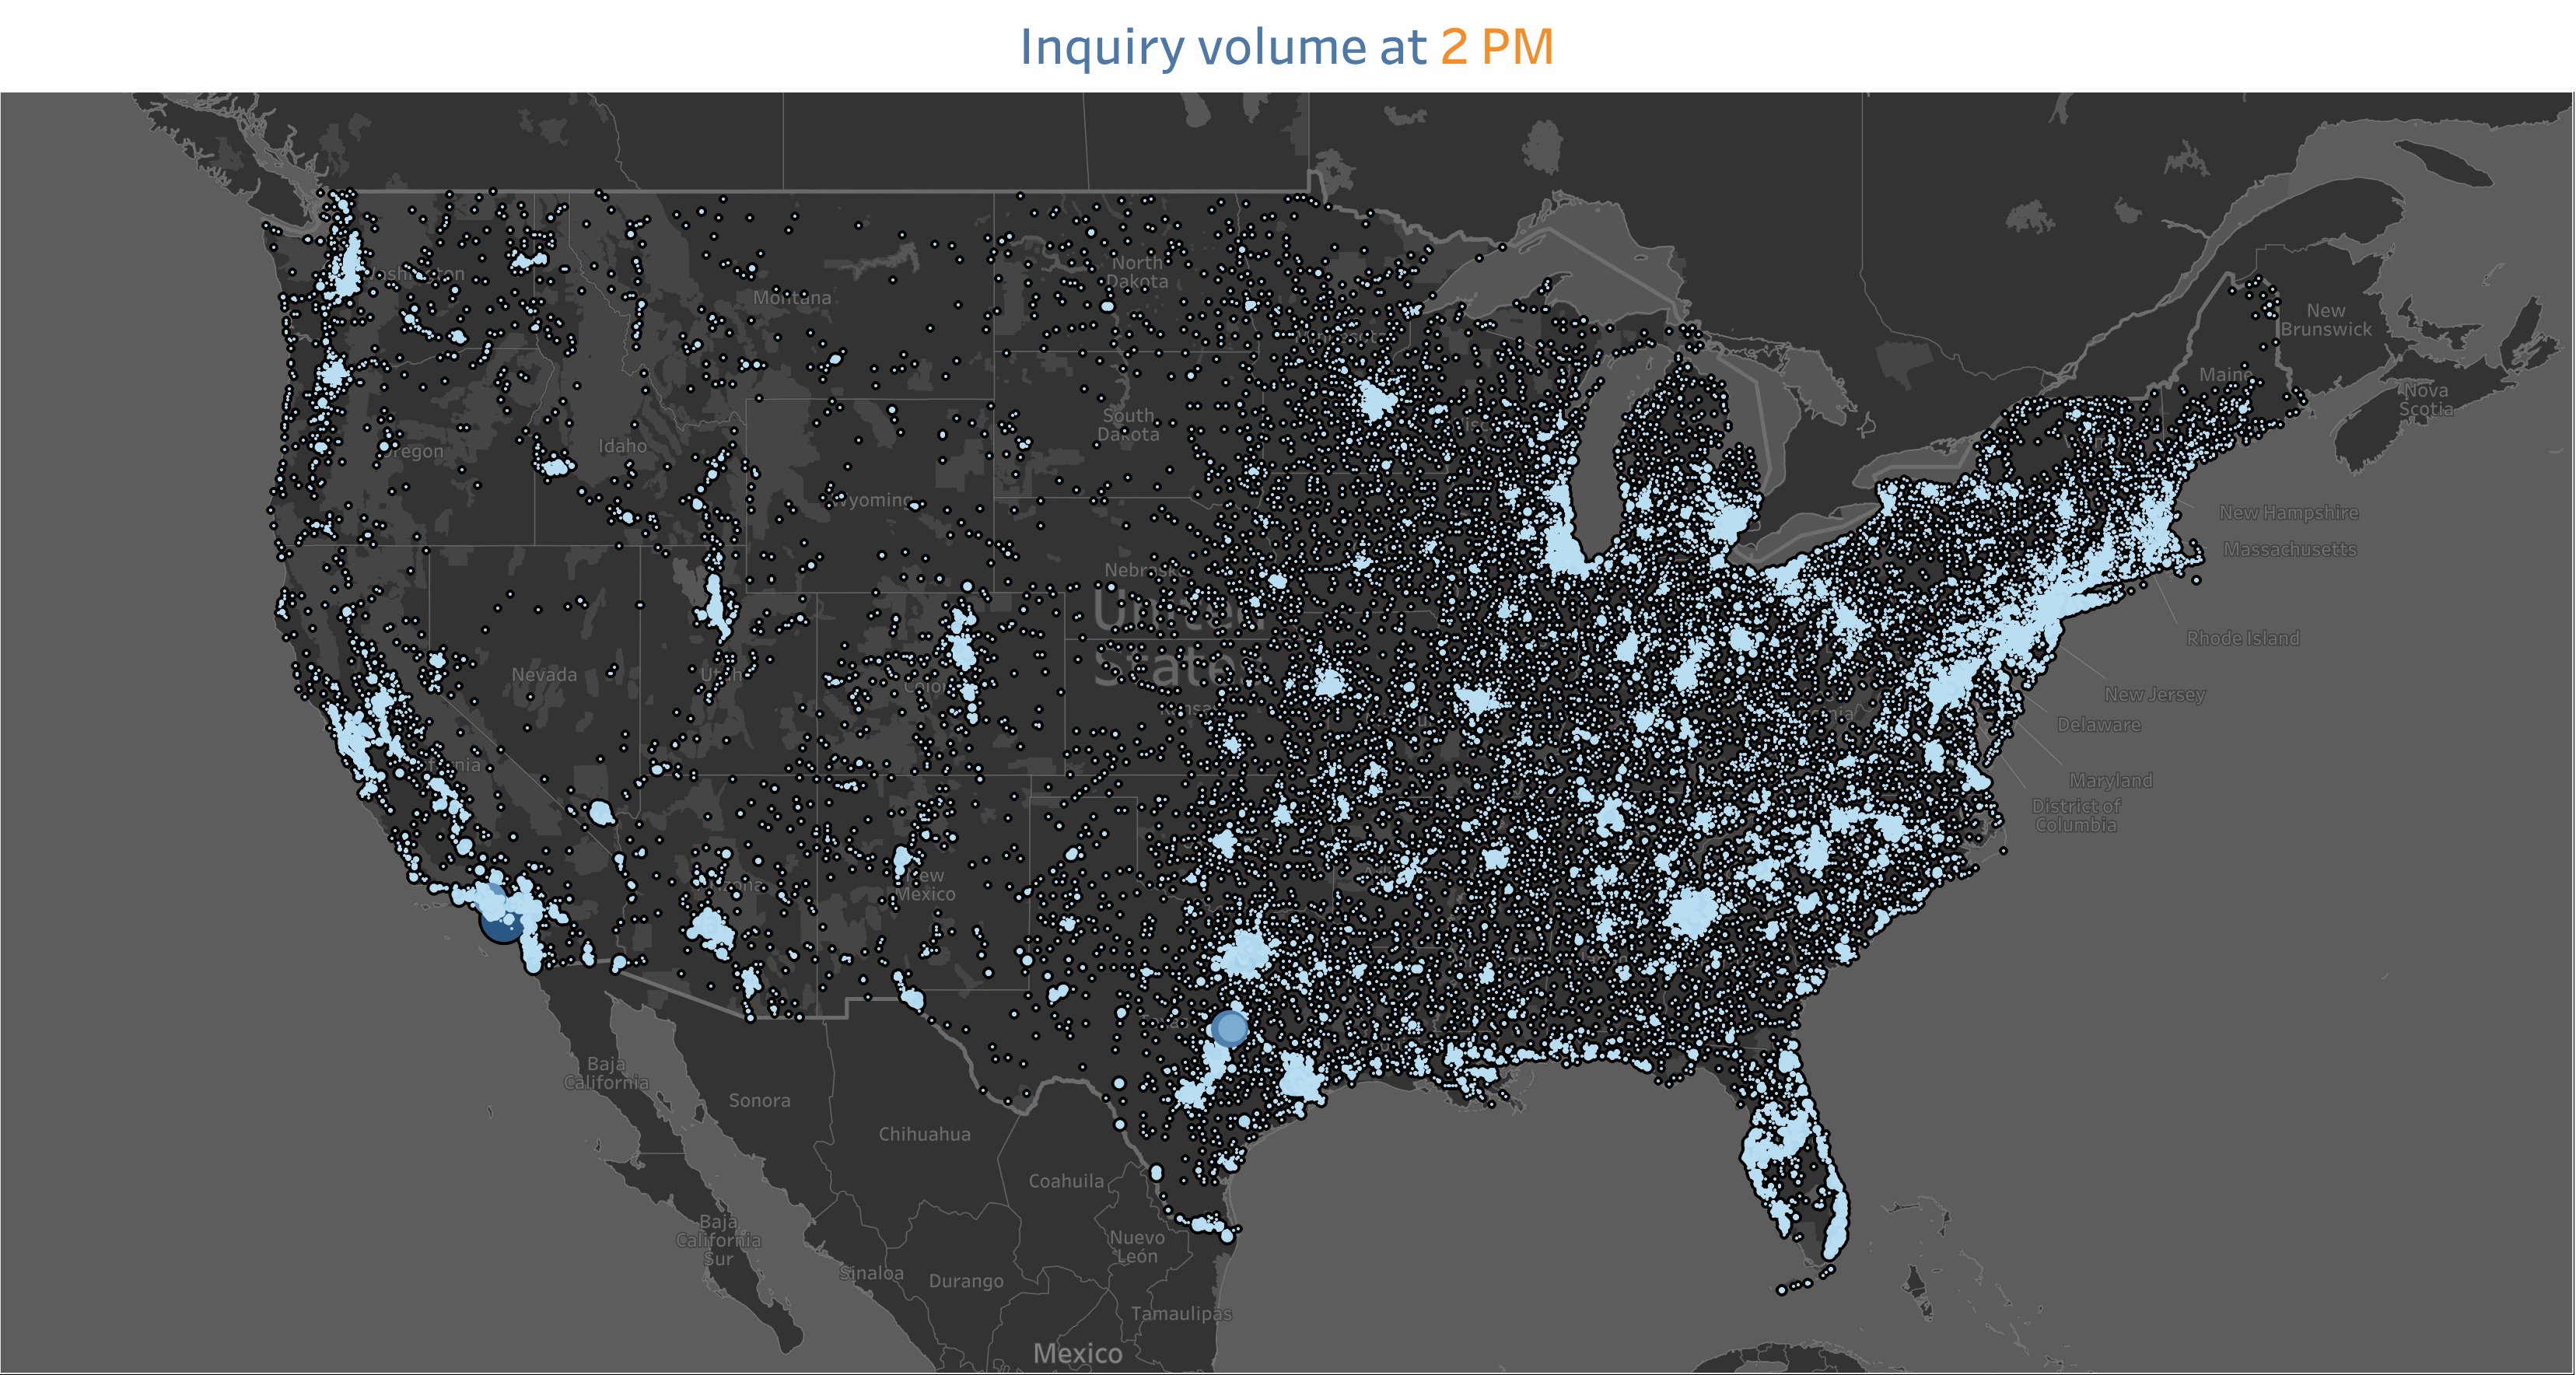

The page's visual inventory and layout, read from the dashboard file:
{"tool":"tableau","page":{"name":"Dashboard 1","canvas":[1000,1000],"units":"permille","ordinal":0},"visuals":[{"type":"worksheet","title":"Sheet 1","mark":"Automatic","box":[4.7,8.8,990.6,982.3]},{"type":"currpage","title":"Sheet 1","box":[883,30.9,87.8,105]}]}

Visuals, with their boxes on the dashboard's canvas, which has no fixed pixel size, in thousandths of its width and height (x1, y1, x2, y2). These are canvas units, not pixel positions in the 2576x1375 screenshot, which may show the page scaled, cropped or inside an application window:
"Sheet 1" worksheet: [x1=5, y1=9, x2=995, y2=991]
"Sheet 1" currpage: [x1=883, y1=31, x2=971, y2=136]
